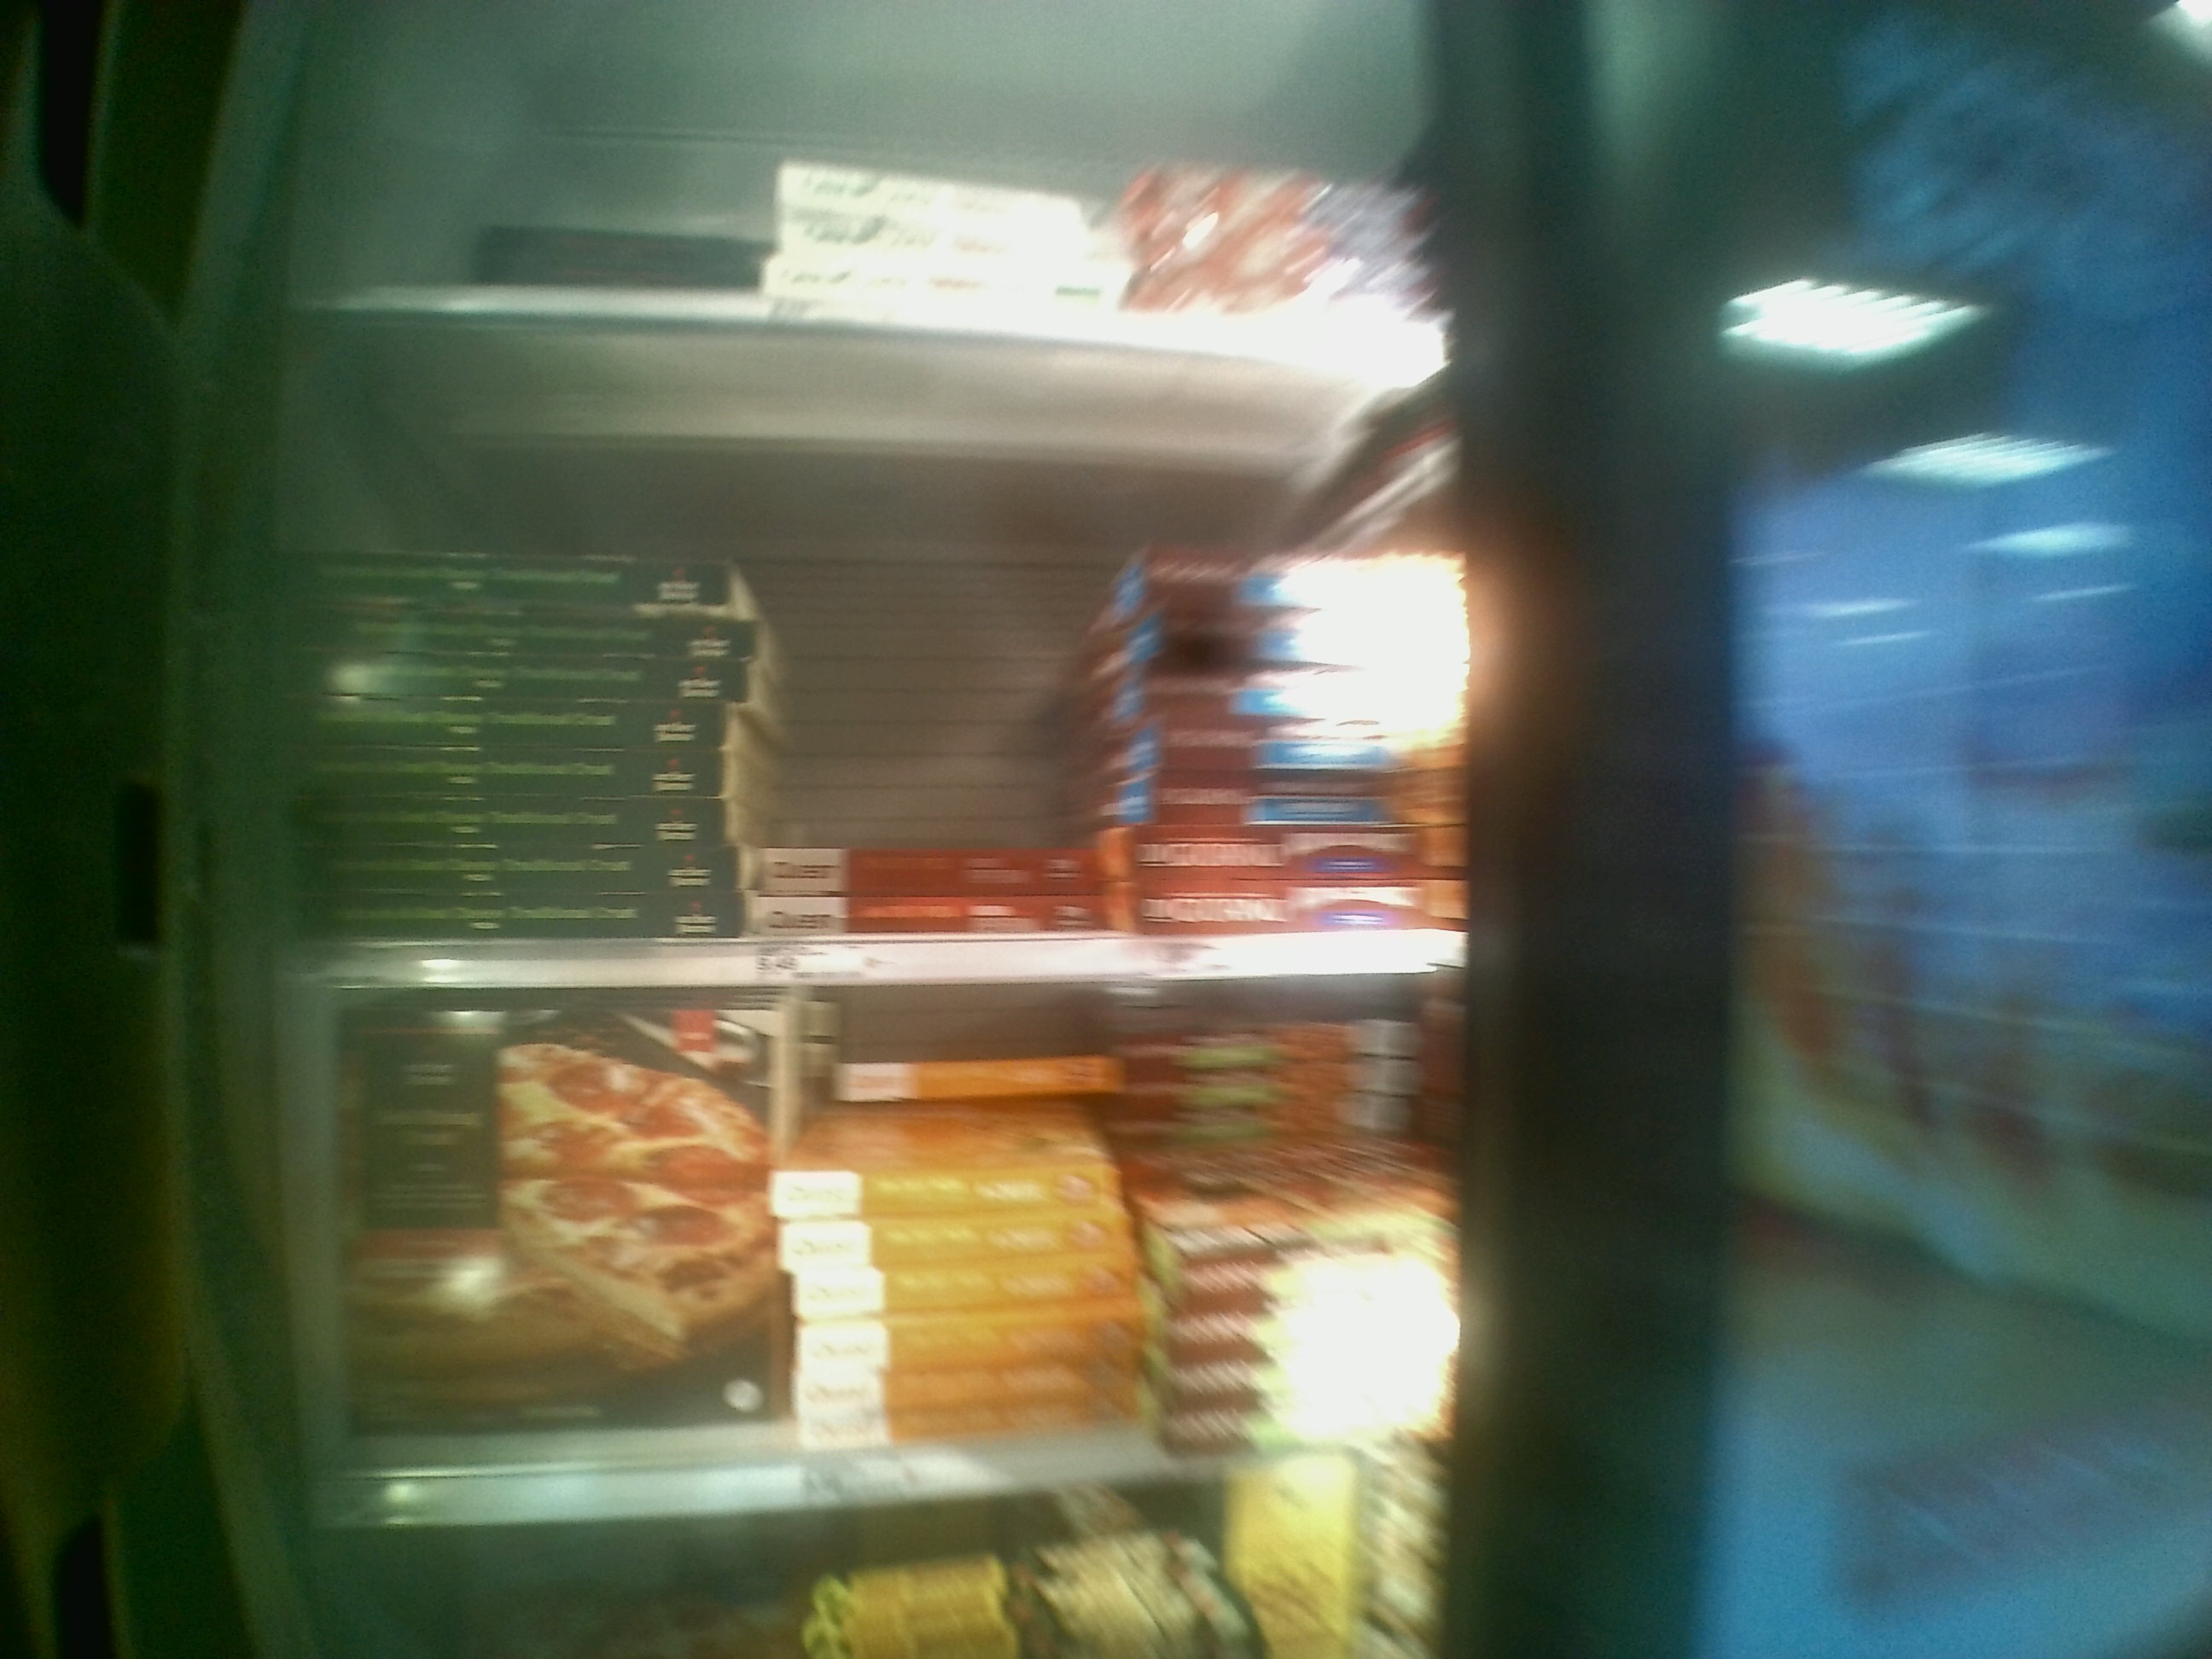pizza: (326, 1018, 766, 1412), (315, 542, 733, 620), (347, 749, 732, 803), (334, 664, 761, 706), (1151, 718, 1446, 774), (779, 256, 1129, 301), (334, 854, 733, 892), (1130, 779, 1467, 823), (369, 709, 725, 749), (1130, 826, 1440, 871), (784, 1220, 1130, 1260), (792, 1356, 1097, 1401), (1129, 552, 1446, 596), (801, 1114, 1090, 1159), (810, 1265, 1120, 1307), (341, 629, 732, 662), (779, 1169, 1123, 1206), (777, 211, 1090, 251), (1130, 880, 1456, 918), (1170, 1401, 1432, 1446), (756, 852, 1073, 889), (1155, 667, 1439, 708), (343, 911, 742, 939), (1150, 1065, 1426, 1105), (1150, 620, 1421, 660), (1188, 1361, 1444, 1401), (792, 1328, 1129, 1356), (1170, 1324, 1467, 1356), (1139, 1114, 1404, 1148), (843, 1065, 1130, 1096), (334, 817, 723, 840), (1137, 1023, 1414, 1054), (1176, 1274, 1432, 1307), (756, 904, 1078, 920)
